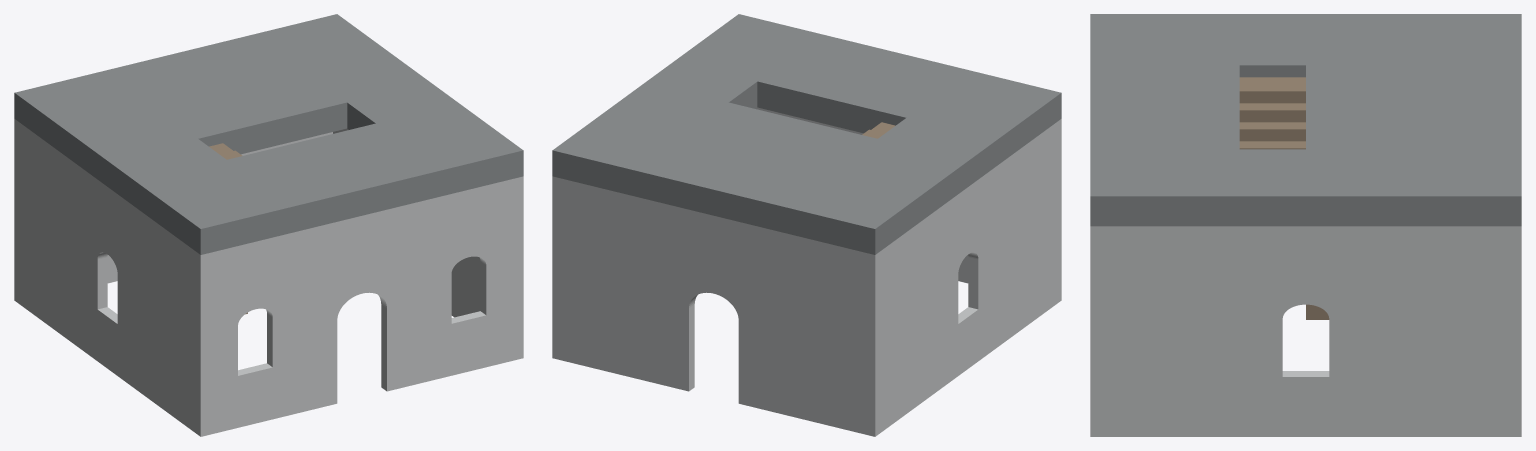
The model's file is BuildingLVL2.glb.
The picture shows the model from 3 angles, left to right: view 1: azimuth 30°, elevation 25°; view 2: azimuth 150°, elevation 25°; view 3: azimuth 270°, elevation 25°; orthographic projection. The views are drawn at different scales.
Visible parts, largest first — view 1: Mesh_Mesh_head_geo.001_lambert2SG.001; view 2: Mesh_Mesh_head_geo.001_lambert2SG.001; view 3: Mesh_Mesh_head_geo.001_lambert2SG.001.
Boxes of the visible parts, x1,y1,x2,y2 form: Mesh_Mesh_head_geo.001_lambert2SG.001: (14,14,523,436); Mesh_Mesh_head_geo.001_lambert2SG.001: (552,14,1061,436); Mesh_Mesh_head_geo.001_lambert2SG.001: (1090,14,1521,436).
Bounding box in the file's own units: 65 × 40 × 65.
